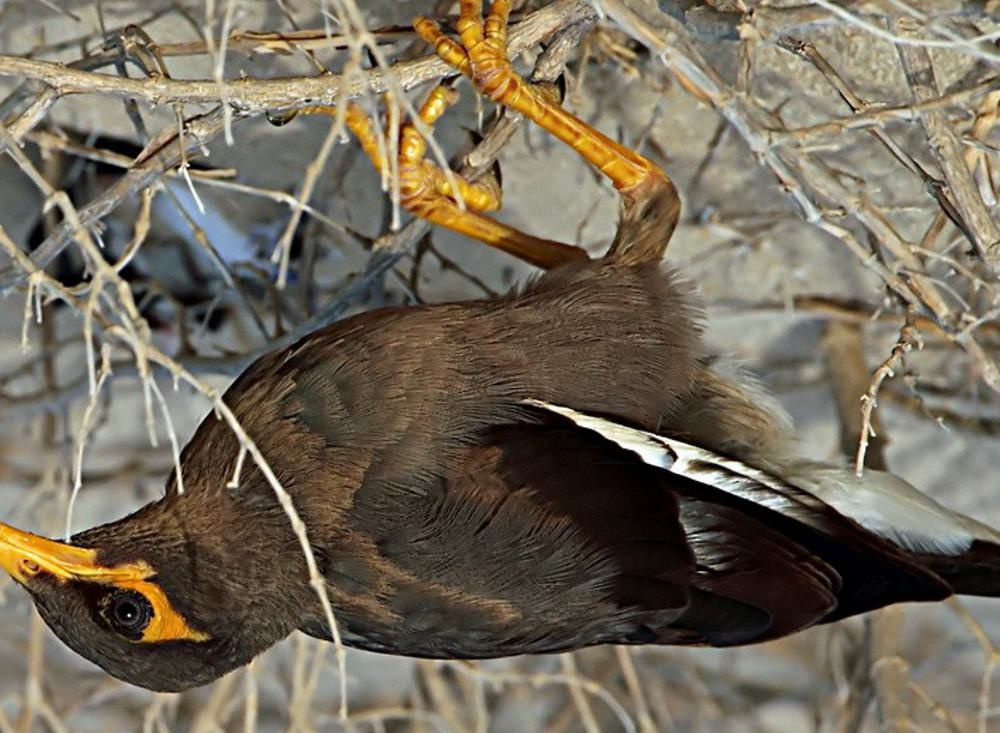myna: (35, 116, 880, 673)
